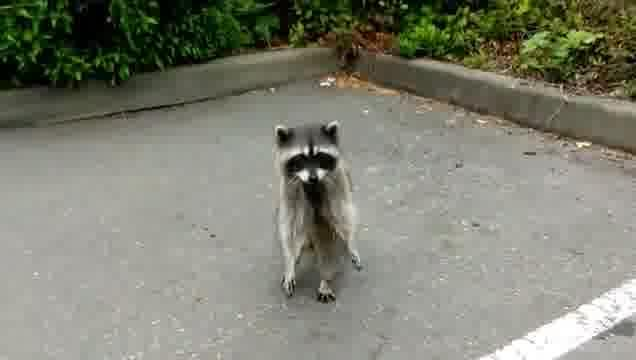raccoon: (272, 119, 368, 312)
